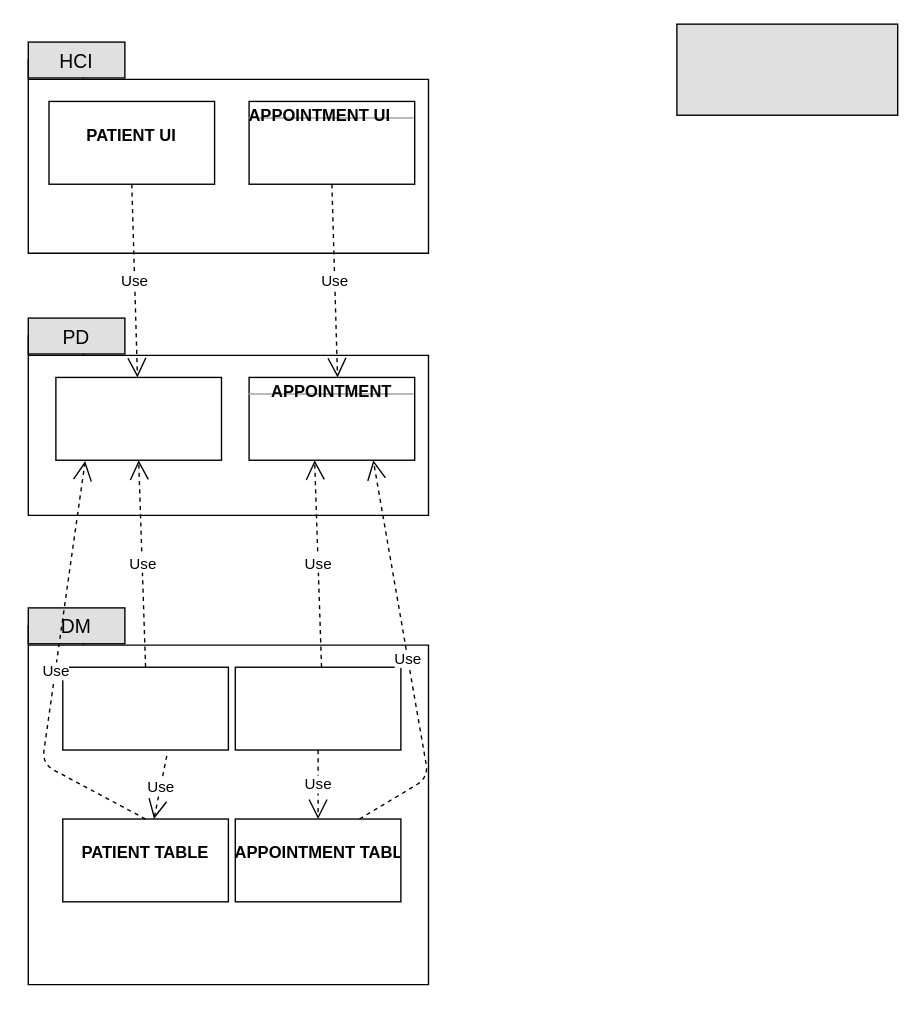
This 922x1009 diagram has some shape labels left out. Here are the shapes that lost their labels. From the top down, the centre of each, then its label:
At point 787,69: "appointment sub-system".
At point 138,418: "PATIENT".
At point 144,708: "PATINET-DAM".
At point 317,708: "APPOINTMENT-DAM".
